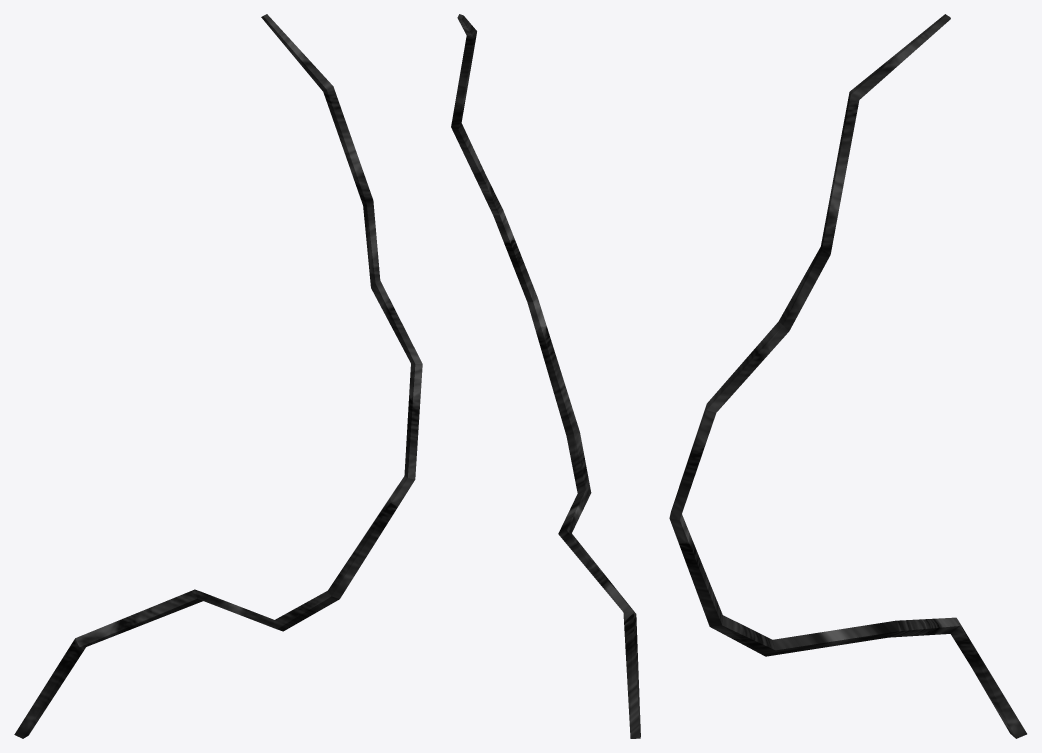
Rendered from SnowCreatureB_2.gltf.
The picture shows the model from 3 angles, left to right: view 1: azimuth 30°, elevation 25°; view 2: azimuth 150°, elevation 25°; view 3: azimuth 270°, elevation 25°; orthographic projection. The views are drawn at different scales.
Parts seen in each view (by area): view 1: SnowCreatureB_2; view 2: SnowCreatureB_2; view 3: SnowCreatureB_2.
Boxes of the visible parts, left/top/right/bottom form: SnowCreatureB_2: left=14, top=14, right=422, bottom=738; SnowCreatureB_2: left=451, top=14, right=640, bottom=738; SnowCreatureB_2: left=669, top=14, right=1026, bottom=738.
Bounding box in the file's own units: 9.37 × 22.09 × 8.44.
Materials: 1 (1 with a texture image).
